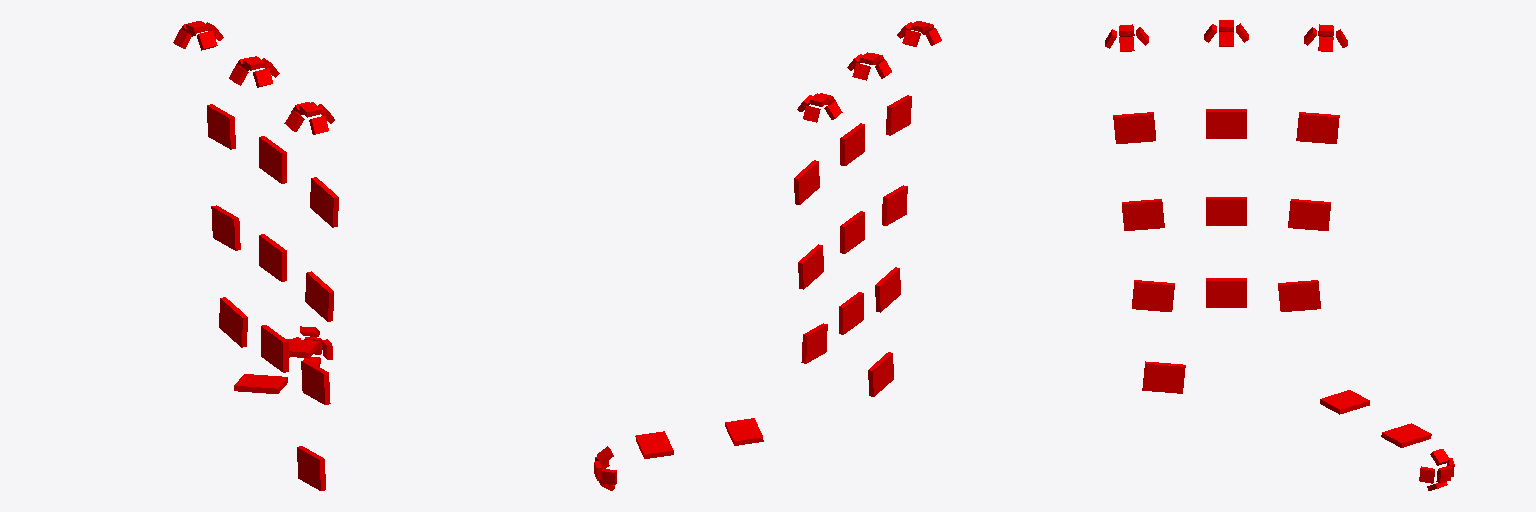
--- Facts derived from the render (not from the file) ---
Views: 3 orthographic renders of the robot side by side, from view 1: azimuth 30°, elevation 25°; view 2: azimuth 150°, elevation 25°; view 3: azimuth 270°, elevation 25°.
Model allegro_right with 55 links and 54 joints (16 revolute, 38 fixed), rooted at base_link, posed all joints at 0 but 1 set to mid-range because 0 is outside their limits (joint_12.0 = 0.8295).
Visible links, largest first — view 1: link_0.0_fsr, link_10.0_fsr, link_9.0_fsr, link_6.0_fsr, link_4.0_fsr, link_5.0_fsr, link_2.0_fsr, link_1.0_fsr, link_base_fsr, link_8.0_fsr, link_14.0_fsr; view 2: link_8.0_fsr, link_1.0_fsr, link_2.0_fsr, link_base_fsr, link_14.0_fsr, link_15.0_fsr, link_6.0_fsr, link_5.0_fsr, link_4.0_fsr, link_9.0_fsr, link_0.0_fsr, link_10.0_fsr; view 3: link_6.0_fsr, link_4.0_fsr, link_8.0_fsr, link_2.0_fsr, link_base_fsr, link_0.0_fsr, link_1.0_fsr, link_9.0_fsr, link_10.0_fsr, link_5.0_fsr, link_14.0_fsr, link_15.0_fsr.
Link boxes in pixels (x1,y1,x2,y2): link_0.0_fsr: [219, 297, 247, 347]; link_10.0_fsr: [310, 177, 338, 227]; link_9.0_fsr: [305, 271, 333, 321]; link_6.0_fsr: [259, 136, 286, 183]; link_4.0_fsr: [261, 325, 288, 372]; link_5.0_fsr: [259, 234, 286, 281]; link_2.0_fsr: [207, 104, 235, 149]; link_1.0_fsr: [211, 205, 240, 250]; link_base_fsr: [297, 446, 325, 490]; link_8.0_fsr: [301, 360, 330, 404]; link_14.0_fsr: [234, 374, 287, 393]; link_8.0_fsr: [875, 267, 900, 312]; link_1.0_fsr: [798, 244, 823, 289]; link_2.0_fsr: [794, 160, 819, 204]; link_base_fsr: [868, 352, 893, 396]; link_14.0_fsr: [725, 418, 763, 445]; link_15.0_fsr: [635, 431, 673, 458]; link_6.0_fsr: [840, 123, 864, 165]; link_5.0_fsr: [840, 211, 864, 253]; link_4.0_fsr: [839, 292, 863, 334]; link_9.0_fsr: [882, 185, 907, 225]; link_0.0_fsr: [801, 323, 827, 363]; link_10.0_fsr: [886, 95, 911, 135]; link_6.0_fsr: [1206, 109, 1246, 138]; link_4.0_fsr: [1206, 278, 1246, 307]; link_8.0_fsr: [1132, 280, 1174, 311]; link_2.0_fsr: [1296, 112, 1339, 143]; link_base_fsr: [1142, 361, 1185, 393]; link_0.0_fsr: [1278, 280, 1320, 311]; link_1.0_fsr: [1288, 199, 1330, 230]; link_9.0_fsr: [1122, 199, 1164, 230]; link_10.0_fsr: [1113, 112, 1155, 143]; link_5.0_fsr: [1206, 197, 1246, 225]; link_14.0_fsr: [1320, 390, 1369, 414]; link_15.0_fsr: [1381, 423, 1431, 447].
Size in the robot's own frame: 0.1221 by 0.1961 by 0.2425 metres.
0 mesh visuals loaded from 10 distinct referenced files (none loaded); not drawn: 21 (reference not matched to a file when rendering).

URDF robot description (allegro_right):
<?xml version="1.0" encoding="utf-8"?>
<robot name="allegro_right">
  <material name="tactile">
    <color rgba="1 0 0 1"/>
  </material>
  <material name="BLUE">
    <color rgba="0.0 0.0 1.0 1.0"/>
  </material>
  <link name="base_link">
    <inertial>
      <mass value="0.4154"/>
      <origin rpy="0 0 0" xyz="0 0 0"/>
      <inertia ixx="1e-4" ixy="0" ixz="0" iyy="1e-4" iyz="0" izz="1e-4"/>
    </inertial>
    <visual>
      <geometry>
        <mesh filename="meshes/visual/base_link.obj"/>
      </geometry>
      <origin rpy="0 0 0" xyz="0 0 0 "/>
    </visual>
    <collision>
      <origin rpy="0 0 0" xyz="-0.009 0.0 -0.023"/>
      <geometry>
        <box size="0.0414 0.112 0.0448"/>
      </geometry>
    </collision>
    <collision>
      <origin rpy="0 0 0" xyz="-0.009 -0.0253 -0.0667"/>
      <geometry>
        <box size="0.0414 0.0538 0.0428"/>
      </geometry>
    </collision>
    <collision>
      <origin rpy="0 0 0" xyz="-0.009300 -0.00557 -0.08874"/>
      <geometry>
        <box size="0.0414 0.0720 0.013"/>
      </geometry>
    </collision>
  </link> <!--  virtual link-->
  <link name="palm"/>
  <joint name="palm_joint" type="fixed">
    <parent link="base_link"/>
    <child link="palm"/>
    <origin rpy="0.00000 -0.00000 0.00000" xyz="0 0 -0.065"/>
  </joint> <!--  virtual link-->
  <link name="wrist"/>
  <joint name="wrist_joint" type="fixed">
    <origin rpy="0 0 0" xyz="0 0 -0.03"/>
    <parent link="palm"/>
    <child link="wrist"/>
  </joint>
  <link name="link_0.0">
    <visual>
      <geometry>
        <mesh filename="meshes/visual/link_0.0.obj"/>
      </geometry>
    </visual>
    <collision>
      <geometry>
        <box size="0.0196 0.0275 0.0164"/>
      </geometry>
      <origin rpy="0 0 0" xyz="0 0 0.0082"/>
    </collision>
    <inertial>
      <mass value="0.0119"/>
      <origin xyz="0 0 0" rpy="0 0 0"/>
      <inertia ixx="1.01666658333e-06" ixy="0.0" ixz="0.0" iyy="6.47677333333e-07" iyz="0.0" izz="1.01666658333e-06"/>
    </inertial>
  </link>
  <joint name="joint_0.0" type="revolute">
    <axis xyz="0 0 1"/>
    <limit effort="10" lower="-0.47" upper="0.47" velocity="3.14"/>
    <parent link="base_link"/>
    <child link="link_0.0"/>
    <origin rpy="-0.08726646255 0 0" xyz="0 0.0435 -0.001542"/>
  </joint>
  <link name="link_1.0">
    <inertial>
      <mass value="0.065"/>
      <origin xyz="0 0 0" rpy="0 0 0"/>
      <inertia ixx="7.95654166667e-05" ixy="1.7199e-05" ixz="8.75875e-06" iyy="2.47088833333e-05" iyz="2.413125e-05" izz="7.95654166667e-05"/>
    </inertial>
    <visual>
      <geometry>
        <mesh filename="meshes/visual/link_1.0.obj"/>
      </geometry>
    </visual>
    <collision>
      <geometry>
        <box size="0.0196 0.0275 0.054"/>
      </geometry>
      <origin rpy="0 0 0" xyz="0 0 0.027"/>
    </collision>
  </link>
  <joint name="joint_1.0" type="revolute">
    <limit effort="10" lower="-0.196" upper="1.61" velocity="3.14"/>
    <axis xyz="0 1 0"/>
    <parent link="link_0.0"/>
    <child link="link_1.0"/>
    <origin xyz="0 0 0.0164"/>
  </joint>
  <link name="link_1.0_fsr">
    <visual>
      <origin rpy="0 0 0" xyz="0.0108 0 0"/>
      <geometry>
        <box size="0.003 0.0228 0.0168"/>
      </geometry>
      <material name="tactile"/>
    </visual>
    <collision>
      <origin rpy="0 0 0" xyz="0.0108 0 0"/>
      <geometry>
        <box size="0.003 0.0228 0.0168"/>
      </geometry>
    </collision>
  </link>
  <joint name="joint_1.0_fsr" type="fixed">
    <parent link="link_1.0"/>
    <child link="link_1.0_fsr"/>
    <origin rpy="0 0 0" xyz="0 0 0.02"/>
  </joint>
  <link name="link_2.0">
    <inertial>
      <mass value="0.0355"/>
      <origin xyz="0 0 0" rpy="0 0 0"/>
      <inertia ixx="2.63979183333e-05" ixy="6.67968e-06" ixz="4.783625e-06" iyy="1.34948516667e-05" iyz="9.372e-06" izz="2.63979183333e-05"/>
    </inertial>
    <visual>
      <geometry>
        <mesh filename="meshes/visual/link_2.0.obj"/>
      </geometry>
    </visual>
    <collision>
      <geometry>
        <box size="0.0196 0.0275 0.0384"/>
      </geometry>
      <origin rpy="0 0 0" xyz="0 0 0.0192"/>
    </collision>
  </link>
  <joint name="joint_2.0" type="revolute">
    <axis xyz="0 1 0"/>
    <limit effort="10" lower="-0.174" upper="1.709" velocity="3.14"/>
    <parent link="link_1.0"/>
    <child link="link_2.0"/>
    <origin xyz="0 0 0.054"/>
  </joint>
  <link name="link_2.0_fsr">
    <visual>
      <origin rpy="0 0 0" xyz="0.0108 0 0"/>
      <geometry>
        <box size="0.003 0.0228 0.0168"/>
      </geometry>
      <material name="tactile"/>
    </visual>
    <collision>
      <origin rpy="0 0 0" xyz="0.0108 0 0"/>
      <geometry>
        <box size="0.003 0.0228 0.0168"/>
      </geometry>
    </collision>
  </link>
  <joint name="joint_2.0_fsr" type="fixed">
    <parent link="link_2.0"/>
    <child link="link_2.0_fsr"/>
    <origin rpy="0 0 0" xyz="0 0 0.02"/>
  </joint>
  <link name="link_3.0">
    <inertial>
      <mass value="0.0096"/>
      <origin xyz="0 0 0" rpy="0 0 0"/>
      <inertia ixx="4.701248e-06" ixy="1.255968e-06" ixz="1.2936e-06" iyy="3.649312e-06" iyz="1.7622e-06" izz="4.701248e-06"/>
    </inertial>
    <visual>
      <geometry>
        <mesh filename="meshes/visual/link_3.0.obj"/>
      </geometry>
    </visual>
    <collision>
      <geometry>
        <box size="0.0196 0.0269 0.022"/>
      </geometry>
      <origin rpy="0 0 0" xyz="0 0 0.0047"/>
    </collision>
    <inertial>
      <origin rpy="0 0 0" xyz="0 0 0.01335"/>
      <mass value="0.02"/>
      <inertia ixx="1e-5" ixy="0.0" ixz="0.0" iyy="2e-5" iyz="0.0" izz="2e-5"/>
    </inertial>
  </link>
  <joint name="joint_3.0" type="revolute">
    <axis xyz="0 1 0"/>
    <limit effort="10" lower="-0.227" upper="1.618" velocity="3.14"/>
    <parent link="link_2.0"/>
    <child link="link_3.0"/>
    <origin xyz="0 0 0.0384"/>
  </joint>
  <link name="link_3.0_tip">
    <inertial>
      <mass value="0.0168"/>
      <origin xyz="0 0 0" rpy="0 0 0"/>
      <inertia ixx="9.68e-07" ixy="0" ixz="0" iyy="9.68e-07" iyz="0" izz="9.68e-07"/>
    </inertial>
    <visual>
      <geometry>
        <mesh filename="meshes/visual/link_tip.obj"/>
      </geometry>
    </visual>
    <collision>
      <geometry>
        <mesh filename="meshes/collision/link_tip.obj"/>
      </geometry>
    </collision>
  </link>
  <joint name="joint_3.0_tip" type="fixed">
    <parent link="link_3.0"/>
    <child link="link_3.0_tip"/>
    <origin rpy="0 0 0" xyz="0 0 0.0267"/>
  </joint>
  <link name="link_3.0_tip_fsr_2">
    <visual>
      <!-- The previous layout with the surrounding sensors positioned further from the central one. -->
      <origin rpy="0 0 0" xyz="0.0108 0 0"/>

      <!-- Origin of tactile sensors with respect to the joint frame. This is for the latest version with the surrounding sensors closer to the central one. -->
      <!-- <origin rpy="0 0 0" xyz="0.0105 0 0"/> -->
      <geometry>
        <box size="0.003 0.008 0.008"/>
      </geometry>
      <material name="tactile"/>
    </visual>
    <collision>
      <origin rpy="0 0 0" xyz="0.0108 0 0"/>
      <!-- <origin rpy="0 0 0" xyz="0.0105 0 0"/> -->
      <geometry>
        <box size="0.003 0.008 0.008"/>
      </geometry>
    </collision>
  </link>
  <joint name="joint_3.0_tip_fsr_2" type="fixed">
    <parent link="link_3.0_tip"/>
    <child link="link_3.0_tip_fsr_2"/>
    <!-- <origin rpy="0 0 0" xyz="0.0001 0 0.000"/> -->
    <origin rpy="0 -0.6 0" xyz="0.0 0 0.000"/>
  </joint>
  <link name="link_3.0_tip_fsr_5">
    <visual>
      <origin rpy="0 0 0" xyz="-0.0108 0 0"/>
      <geometry>
        <box size="0.003 0.008 0.008"/>
      </geometry>
      <material name="tactile"/>
    </visual>
    <collision>
      <origin rpy="0 0 0" xyz="-0.0108 0 0"/>
      <geometry>
        <box size="0.003 0.008 0.008"/>
      </geometry>
    </collision>
  </link>
  <joint name="joint_3.0_tip_fsr_5" type="fixed">
    <parent link="link_3.0_tip"/>
    <child link="link_3.0_tip_fsr_5"/>
    <!-- <origin rpy="0 0 0" xyz="-0.0213 0 0"/> -->
    <origin rpy="0 0.6 0" xyz="0.0 0 0"/>
  </joint>
  <link name="link_3.0_tip_fsr_8">
    <visual>
      <!-- <origin rpy="0 0 0" xyz="0.0108 0 0"/> -->
      <origin rpy="0.0 0 0" xyz="0.0 0.0108 0"/>
      <geometry>
        <box size="0.008 0.003 0.008"/>
      </geometry>
      <material name="tactile"/>
    </visual>
    <collision>
      <origin rpy="0.0 0 0" xyz="0.0 0.0108 0"/>
      <geometry>
        <box size="0.008 0.003 0.008"/>
      </geometry>
    </collision>
  </link>
  <joint name="joint_3.0_tip_fsr_8" type="fixed">
    <parent link="link_3.0_tip"/>
    <child link="link_3.0_tip_fsr_8"/>
    <!-- previous joint pos -->
    <!-- <origin rpy="0 0 0" xyz="-0.011 0.0105 0"/> -->
    <!-- new joint pos is the center of the tip -->
    <origin rpy="0.6 0 0" xyz="0.0 0.0 0"/>
  </joint>
  <link name="link_3.0_tip_fsr_11">
    <visual>
      <!-- <origin rpy="0 0 0" xyz="0.0108 0 0"/> -->
      <origin rpy="0 0 0" xyz="0.0 -0.0108 0"/>
      <geometry>
        <box size="0.008 0.003 0.008"/>
      </geometry>
      <material name="tactile"/>
    </visual>
    <collision>
      <!-- <origin rpy="0 0 0" xyz="0.0108 0 0"/> -->
      <origin rpy="0 0 0" xyz="0.0 -0.0108 0"/>
      <geometry>
        <box size="0.008 0.003 0.008"/>
      </geometry>
    </collision>
  </link>
  <joint name="joint_3.0_tip_fsr_11" type="fixed">
    <parent link="link_3.0_tip"/>
    <child link="link_3.0_tip_fsr_11"/>
    <origin rpy="-0.6 0 0" xyz="0.0 0.0 0"/>
  </joint>
  <link name="link_3.0_tip_fsr_13">
    <visual>
      <origin rpy="0 0 0" xyz="0.0108 0 0"/>
      <geometry>
        <box size="0.008 0.008 0.003"/>
      </geometry>
      <material name="tactile"/>
    </visual>
    <collision>
      <origin rpy="0 0 0" xyz="0.0108 0 0"/>
      <geometry>
        <box size="0.008 0.008 0.003"/>
      </geometry>
    </collision>
  </link>
  <joint name="joint_3.0_tip_fsr_13" type="fixed">
    <parent link="link_3.0_tip"/>
    <child link="link_3.0_tip_fsr_13"/>
    <origin rpy="0 0 0" xyz="-0.011 0 0.0105"/>
  </joint>
  <link name="link_4.0">
    <inertial>
      <mass value="0.005"/>
      <origin xyz="0 0 0"/>
      <inertia ixx="5.1458e-05" iyy="5.1458e-05" izz="6.125e-05" ixy="0" ixz="0" iyz="0"/>
    </inertial>
    <visual>
      <geometry>
        <mesh filename="meshes/visual/link_0.0.obj"/>
      </geometry>
    </visual>
    <collision>
      <geometry>
        <box size="0.0196 0.0275 0.0164"/>
      </geometry>
      <origin rpy="0 0 0" xyz="0 0 0.0082"/>
    </collision>
  </link>
  <joint name="joint_4.0" type="revolute">
    <axis xyz="0 0 1"/>
    <limit effort="10" lower="-0.47" upper="0.47" velocity="3.14"/>
    <parent link="base_link"/>
    <child link="link_4.0"/>
    <origin rpy="0.0 0 0" xyz="0 0 0.0007"/>
  </joint>
  <link name="link_5.0">
    <inertial>
      <mass value="0.065"/>
      <origin xyz="0 0 0" rpy="0 0 0"/>
      <inertia ixx="7.95654166667e-05" ixy="1.7199e-05" ixz="8.75875e-06" iyy="2.47088833333e-05" iyz="2.413125e-05" izz="7.95654166667e-05"/>
    </inertial>
    <visual>
      <geometry>
        <mesh filename="meshes/visual/link_1.0.obj"/>
      </geometry>
    </visual>
    <collision>
      <geometry>
        <box size="0.0196 0.0275 0.054"/>
      </geometry>
      <origin rpy="0 0 0" xyz="0 0 0.027"/>
    </collision>
  </link>
  <joint name="joint_5.0" type="revolute">
    <limit effort="10" lower="-0.196" upper="1.61" velocity="3.14"/>
    <axis xyz="0 1 0"/>
    <parent link="link_4.0"/>
    <child link="link_5.0"/>
    <origin xyz="0 0 0.0164"/>
  </joint>
  <link name="link_5.0_fsr">
    <visual>
      <origin rpy="0 0 0" xyz="0.0108 0 0"/>
      <geometry>
        <box size="0.003 0.0228 0.0168"/>
      </geometry>
      <material name="tactile"/>
    </visual>
    <collision>
      <origin rpy="0 0 0" xyz="0.0108 0 0"/>
      <geometry>
        <box size="0.003 0.0228 0.0168"/>
      </geometry>
    </collision>
  </link>
  <joint name="joint_5.0_fsr" type="fixed">
    <parent link="link_5.0"/>
    <child link="link_5.0_fsr"/>
    <origin rpy="0 0 0" xyz="0 0 0.02"/>
  </joint>
  <link name="link_6.0">
    <inertial>
      <mass value="0.0355"/>
      <origin xyz="0 0 0" rpy="0 0 0"/>
      <inertia ixx="2.63979183333e-05" ixy="6.67968e-06" ixz="4.783625e-06" iyy="1.34948516667e-05" iyz="9.372e-06" izz="2.63979183333e-05"/>
    </inertial>
    <visual>
      <geometry>
        <mesh filename="meshes/visual/link_2.0.obj"/>
      </geometry>
    </visual>
    <collision>
      <geometry>
        <box size="0.0196 0.0275 0.0384"/>
      </geometry>
      <origin rpy="0 0 0" xyz="0 0 0.0192"/>
    </collision>
  </link>
  <joint name="joint_6.0" type="revolute">
    <axis xyz="0 1 0"/>
    <limit effort="10" lower="-0.174" upper="1.709" velocity="3.14"/>
    <parent link="link_5.0"/>
    <child link="link_6.0"/>
    <origin xyz="0 0 0.054"/>
  </joint>
  <link name="link_6.0_fsr">
    <visual>
      <origin rpy="0 0 0" xyz="0.0108 0 0"/>
      <geometry>
        <box size="0.003 0.0228 0.0168"/>
      </geometry>
      <material name="tactile"/>
    </visual>
    <collision>
      <origin rpy="0 0 0" xyz="0.0108 0 0"/>
      <geometry>
        <box size="0.003 0.0228 0.0168"/>
      </geometry>
    </collision>
  </link>
  <joint name="joint_6.0_fsr" type="fixed">
    <parent link="link_6.0"/>
    <child link="link_6.0_fsr"/>
    <origin rpy="0 0 0" xyz="0 0 0.02"/>
  </joint>
  <link name="link_7.0">
    <inertial>
      <mass value="0.0388"/>
      <origin xyz="0 0 0" rpy="0 0 0"/>
      <inertia ixx="3.29223173333e-05" ixy="8.042076e-06" ixz="5.2283e-06" iyy="1.47493026667e-5" iyz="1.1283525e-5" izz="3.29223173333e-05"/>
    </inertial>
    <visual>
      <geometry>
        <mesh filename="meshes/visual/link_3.0.obj"/>
      </geometry>
    </visual>
    <collision>
      <geometry>
        <box size="0.0196 0.0269 0.022"/>
      </geometry>
      <origin rpy="0 0 0" xyz="0 0 0.0047"/>
    </collision>
  </link>
  <joint name="joint_7.0" type="revolute">
    <axis xyz="0 1 0"/>
    <limit effort="10" lower="-0.227" upper="1.618" velocity="3.14"/>
    <parent link="link_6.0"/>
    <child link="link_7.0"/>
    <origin xyz="0 0 0.0384"/>
  </joint>
  <link name="link_7.0_tip">
    <inertial>
      <mass value="0.0096"/>
      <origin xyz="0 0 0" rpy="0 0 0"/>
      <inertia ixx="4.701248e-06" ixy="1.255968e-06" ixz="1.2936e-06" iyy="3.649312e-06" iyz="1.7622e-06" izz="4.701248e-06"/>
    </inertial>
    <visual>
      <geometry>
        <mesh filename="meshes/visual/link_tip.obj"/>
      </geometry>
    </visual>
    <collision>
      <geometry>
        <mesh filename="meshes/collision/link_tip.obj"/>
      </geometry>
    </collision>
  </link>
  <joint name="joint_7.0_tip" type="fixed">
    <parent link="link_7.0"/>
    <child link="link_7.0_tip"/>
    <origin rpy="0 0 0" xyz="0 0 0.0267"/>
  </joint>
  <!-- <link name="link_7.0_tip_fsr_2">
    <visual>
      <origin rpy="0 0 0" xyz="0.0108 0 0"/>
      <geometry>
        <box size="0.003 0.008 0.008"/>
      </geometry>
      <material name="tactile"/>
    </visual>
    <collision>
      <origin rpy="0 0 0" xyz="0.0108 0 0"/>
      <geometry>
        <box size="0.003 0.008 0.008"/>
      </geometry>
    </collision>
  </link>
  <joint name="joint_7.0_tip_fsr_2" type="fixed">
    <parent link="link_7.0_tip"/>
    <child link="link_7.0_tip_fsr_2"/>
    <origin rpy="0 0 0" xyz="-0.0003 0 0.000"/>
  </joint>
  <link name="link_7.0_tip_fsr_5">
    <visual>
      <origin rpy="0 0 0" xyz="0.0108 0 0"/>
      <geometry>
        <box size="0.003 0.008 0.008"/>
      </geometry>
      <material name="tactile"/>
    </visual>
    <collision>
      <origin rpy="0 0 0" xyz="0.0108 0 0"/>
      <geometry>
        <box size="0.003 0.008 0.008"/>
      </geometry>
    </collision>
  </link>
  <joint name="joint_7.0_tip_fsr_5" type="fixed">
    <parent link="link_7.0_tip"/>
    <child link="link_7.0_tip_fsr_5"/>
    <origin rpy="0 0 0" xyz="-0.0213 0 0"/>
  </joint>
  <link name="link_7.0_tip_fsr_8">
    <visual>
      <origin rpy="0 0 0" xyz="0.0108 0 0"/>
      <geometry>
        <box size="0.008 0.003 0.008"/>
      </geometry>
      <material name="tactile"/>
    </visual>
    <collision>
      <origin rpy="0 0 0" xyz="0.0108 0 0"/>
      <geometry>
        <box size="0.008 0.003 0.008"/>
      </geometry>
    </collision>
  </link>
  <joint name="joint_7.0_tip_fsr_8" type="fixed">
    <parent link="link_7.0_tip"/>
    <child link="link_7.0_tip_fsr_8"/>
    <origin rpy="0 0 0" xyz="-0.011 0.0105 0"/>
  </joint>
  <link name="link_7.0_tip_fsr_11">
    <visual>
      <origin rpy="0 0 0" xyz="0.0108 0 0"/>
      <geometry>
        <box size="0.008 0.003 0.008"/>
      </geometry>
      <material name="tactile"/>
    </visual>
    <collision>
      <origin rpy="0 0 0" xyz="0.0108 0 0"/>
      <geometry>
        <box size="0.008 0.003 0.008"/>
      </geometry>
    </collision>
  </link>
  <joint name="joint_7.0_tip_fsr_11" type="fixed">
    <parent link="link_7.0_tip"/>
    <child link="link_7.0_tip_fsr_11"/>
    <origin rpy="0 0 0" xyz="-0.011 -0.0105 0"/>
  </joint> -->
  <link name="link_7.0_tip_fsr_2">
    <visual>
      <!-- The previous layout with the surrounding sensors positioned further from the central one. -->
      <origin rpy="0 0 0" xyz="0.0108 0 0"/>

      <!-- Origin of tactile sensors with respect to the joint frame. This is for the latest version with the surrounding sensors closer to the central one. -->
      <!-- <origin rpy="0 0 0" xyz="0.0105 0 0"/> -->
      <geometry>
        <box size="0.003 0.008 0.008"/>
      </geometry>
      <material name="tactile"/>
    </visual>
    <collision>
      <origin rpy="0 0 0" xyz="0.0108 0 0"/>
      <!-- <origin rpy="0 0 0" xyz="0.0105 0 0"/> -->
      <geometry>
        <box size="0.003 0.008 0.008"/>
      </geometry>
    </collision>
  </link>
  <joint name="joint_7.0_tip_fsr_2" type="fixed">
    <parent link="link_7.0_tip"/>
    <child link="link_7.0_tip_fsr_2"/>
    <!-- <origin rpy="0 0 0" xyz="0.0001 0 0.000"/> -->
    <origin rpy="0 -0.6 0" xyz="0.0 0 0.000"/>
  </joint>
  <link name="link_7.0_tip_fsr_5">
    <visual>
      <origin rpy="0 0 0" xyz="-0.0108 0 0"/>
      <geometry>
        <box size="0.003 0.008 0.008"/>
      </geometry>
      <material name="tactile"/>
    </visual>
    <collision>
      <origin rpy="0 0 0" xyz="-0.0108 0 0"/>
      <geometry>
        <box size="0.003 0.008 0.008"/>
      </geometry>
    </collision>
  </link>
  <joint name="joint_7.0_tip_fsr_5" type="fixed">
    <parent link="link_7.0_tip"/>
    <child link="link_7.0_tip_fsr_5"/>
    <!-- <origin rpy="0 0 0" xyz="-0.0213 0 0"/> -->
    <origin rpy="0 0.6 0" xyz="0.0 0 0"/>
  </joint>
  <link name="link_7.0_tip_fsr_8">
    <visual>
      <!-- <origin rpy="0 0 0" xyz="0.0108 0 0"/> -->
      <origin rpy="0.0 0 0" xyz="0.0 0.0108 0"/>
      <geometry>
        <box size="0.008 0.003 0.008"/>
      </geometry>
      <material name="tactile"/>
    </visual>
    <collision>
      <origin rpy="0.0 0 0" xyz="0.0 0.0108 0"/>
      <geometry>
        <box size="0.008 0.003 0.008"/>
      </geometry>
    </collision>
  </link>
  <joint name="joint_7.0_tip_fsr_8" type="fixed">
    <parent link="link_7.0_tip"/>
    <child link="link_7.0_tip_fsr_8"/>
    <!-- previous joint pos -->
    <!-- <origin rpy="0 0 0" xyz="-0.011 0.0105 0"/> -->
    <!-- new joint pos is the center of the tip -->
    <origin rpy="0.6 0 0" xyz="0.0 0.0 0"/>
  </joint>
  <link name="link_7.0_tip_fsr_11">
    <visual>
      <!-- <origin rpy="0 0 0" xyz="0.0108 0 0"/> -->
      <origin rpy="0 0 0" xyz="0.0 -0.0108 0"/>
      <geometry>
        <box size="0.008 0.003 0.008"/>
      </geometry>
      <material name="tactile"/>
    </visual>
    <collision>
      <!-- <origin rpy="0 0 0" xyz="0.0108 0 0"/> -->
      <origin rpy="0 0 0" xyz="0.0 -0.0108 0"/>
      <geometry>
        <box size="0.008 0.003 0.008"/>
      </geometry>
    </collision>
  </link>
  <joint name="joint_7.0_tip_fsr_11" type="fixed">
    <parent link="link_7.0_tip"/>
    <child link="link_7.0_tip_fsr_11"/>
    <origin rpy="-0.6 0 0" xyz="0.0 0.0 0"/>
  </joint>
  <link name="link_7.0_tip_fsr_13">
    <visual>
      <origin rpy="0 0 0" xyz="0.0108 0 0"/>
      <geometry>
        <box size="0.008 0.008 0.003"/>
      </geometry>
      <material name="tactile"/>
    </visual>
    <collision>
      <origin rpy="0 0 0" xyz="0.0108 0 0"/>
      <geometry>
        <box size="0.008 0.008 0.003"/>
      </geometry>
    </collision>
  </link>
  <joint name="joint_7.0_tip_fsr_13" type="fixed">
    <parent link="link_7.0_tip"/>
    <child link="link_7.0_tip_fsr_13"/>
    <origin rpy="0 0 0" xyz="-0.011 0 0.0105"/>
  </joint>
  <link name="link_8.0">
    <inertial>
      <mass value="0.005"/>
      <origin xyz="0 0 0"/>
      <inertia ixx="5.1458e-05" iyy="5.1458e-05" izz="6.125e-05" ixy="0" ixz="0" iyz="0"/>
    </inertial>
    <visual>
      <geometry>
        <mesh filename="meshes/visual/link_0.0.obj"/>
      </geometry>
    </visual>
    <collision>
      <geometry>
        <box size="0.0196 0.0275 0.0164"/>
      </geometry>
      <origin rpy="0 0 0" xyz="0 0 0.0082"/>
    </collision>
  </link>
  <joint name="joint_8.0" type="revolute">
    <axis xyz="0 0 1"/>
    <limit effort="10" lower="-0.47" upper="0.47" velocity="3.14"/>
    <parent link="base_link"/>
    <child link="link_8.0"/>
    <origin rpy="0.08726646255 0 0" xyz="0 -0.0435 -0.001542"/>
  </joint>
  <link name="link_9.0">
    <inertial>
      <mass value="0.065"/>
      <origin xyz="0 0 0" rpy="0 0 0"/>
      <inertia ixx="7.95654166667e-05" ixy="1.7199e-05" ixz="8.75875e-06" iyy="2.47088833333e-05" iyz="2.413125e-05" izz="7.95654166667e-05"/>
    </inertial>
    <visual>
      <geometry>
        <mesh filename="meshes/visual/link_1.0.obj"/>
      </geometry>
    </visual>
    <collision>
      <geometry>
        <box size="0.0196 0.0275 0.054"/>
      </geometry>
      <origin rpy="0 0 0" xyz="0 0 0.027"/>
    </collision>
  </link>
  <joint name="joint_9.0" type="revolute">
    <limit effort="10" lower="-0.196" upper="1.61" velocity="3.14"/>
    <axis xyz="0 1 0"/>
    <parent link="link_8.0"/>
    <child link="link_9.0"/>
    <origin xyz="0 0 0.0164"/>
  </joint>
  <link name="link_9.0_fsr">
    <visual>
      <origin rpy="0 0 0" xyz="0.0108 0 0"/>
      <geometry>
        <box size="0.003 0.0228 0.0168"/>
      </geometry>
      <material name="tactile"/>
    </visual>
    <collision>
      <origin rpy="0 0 0" xyz="0.0108 0 0"/>
      <geometry>
        <box size="0.003 0.0228 0.0168"/>
      </geometry>
    </collision>
  </link>
  <joint name="joint_9.0_fsr" type="fixed">
    <parent link="link_9.0"/>
    <child link="link_9.0_fsr"/>
    <origin rpy="0 0 0" xyz="0 0 0.02"/>
  </joint>
  <link name="link_10.0">
    <inertial>
      <mass value="0.0355"/>
      <origin xyz="0 0 0" rpy="0 0 0"/>
      <inertia ixx="2.63979183333e-05" ixy="6.67968e-06" ixz="4.783625e-06" iyy="1.34948516667e-05" iyz="9.372e-06" izz="2.63979183333e-05"/>
    </inertial>
    <visual>
      <geometry>
        <mesh filename="meshes/visual/link_2.0.obj"/>
      </geometry>
    </visual>
    <collision>
      <geometry>
        <box size="0.0196 0.0275 0.0384"/>
      </geometry>
      <origin rpy="0 0 0" xyz="0 0 0.0192"/>
    </collision>
  </link>
  <joint name="joint_10.0" type="revolute">
    <axis xyz="0 1 0"/>
    <limit effort="10" lower="-0.174" upper="1.709" velocity="3.14"/>
    <parent link="link_9.0"/>
    <child link="link_10.0"/>
    <origin xyz="0 0 0.054"/>
  </joint>
  <link name="link_10.0_fsr">
    <visual>
      <origin rpy="0 0 0" xyz="0.0108 0 0"/>
      <geometry>
        <box size="0.003 0.0228 0.0168"/>
      </geometry>
      <material name="tactile"/>
    </visual>
    <collision>
      <origin rpy="0 0 0" xyz="0.0108 0 0"/>
      <geometry>
        <box size="0.003 0.0228 0.0168"/>
      </geometry>
    </collision>
  </link>
  <joint name="joint_10.0_fsr" type="fixed">
    <parent link="link_10.0"/>
    <child link="link_10.0_fsr"/>
    <origin rpy="0 0 0" xyz="0 0 0.02"/>
  </joint>
  <link name="link_11.0">
    <inertial>
      <mass value="0.0096"/>
      <origin xyz="0 0 0" rpy="0 0 0"/>
      <inertia ixx="4.701248e-06" ixy="1.255968e-06" ixz="1.2936e-06" iyy="3.649312e-06" iyz="1.7622e-06" izz="4.701248e-06"/>
    </inertial>
    <visual>
      <geometry>
        <mesh filename="meshes/visual/link_3.0.obj"/>
      </geometry>
    </visual>
    <collision>
      <geometry>
        <box size="0.0196 0.0269 0.022"/>
      </geometry>
      <origin rpy="0 0 0" xyz="0 0 0.0047"/>
    </collision>
  </link>
  <joint name="joint_11.0" type="revolute">
    <axis xyz="0 1 0"/>
    <limit effort="10" lower="-0.227" upper="1.618" velocity="3.14"/>
    <parent link="link_10.0"/>
    <child link="link_11.0"/>
    <origin xyz="0 0 0.0384"/>
  </joint>
  <link name="link_11.0_tip">
    <inertial>
      <mass value="0.0168"/>
      <origin xyz="0 0 0" rpy="0 0 0"/>
      <inertia ixx="9.68e-07" ixy="0" ixz="0" iyy="9.68e-07" iyz="0" izz="9.68e-07"/>
    </inertial>
    <visual>
      <geometry>
        <mesh filename="meshes/visual/link_tip.obj"/>
      </geometry>
    </visual>
    <collision>
      <geometry>
        <mesh filename="meshes/collision/link_tip.obj"/>
      </geometry>
    </collision>
  </link>
  <joint name="joint_11.0_tip" type="fixed">
    <parent link="link_11.0"/>
    <child link="link_11.0_tip"/>
    <origin rpy="0 0 0" xyz="0 0 0.0267"/>
  </joint> <!-- THUMB -->
  <!-- <link name="link_11.0_tip_fsr_2">
    <visual>
      <origin rpy="0 0 0" xyz="0.0108 0 0"/>
      <geometry>
        <box size="0.003 0.008 0.008"/>
      </geometry>
      <material name="tactile"/>
    </visual>
    <collision>
      <origin rpy="0 0 0" xyz="0.0108 0 0"/>
      <geometry>
        <box size="0.003 0.008 0.008"/>
      </geometry>
    </collision>
  </link>
  <joint name="joint_11.0_tip_fsr_2" type="fixed">
    <parent link="link_11.0_tip"/>
    <child link="link_11.0_tip_fsr_2"/>
    <origin rpy="0 0 0" xyz="-0.0003 0 0.000"/>
  </joint>
  <link name="link_11.0_tip_fsr_5">
    <visual>
      <origin rpy="0 0 0" xyz="0.0108 0 0"/>
      <geometry>
        <box size="0.003 0.008 0.008"/>
      </geometry>
      <material name="tactile"/>
    </visual>
    <collision>
      <origin rpy="0 0 0" xyz="0.0108 0 0"/>
      <geometry>
        <box size="0.003 0.008 0.008"/>
      </geometry>
    </collision>
  </link>
  <joint name="joint_11.0_tip_fsr_5" type="fixed">
    <parent link="link_11.0_tip"/>
    <child link="link_11.0_tip_fsr_5"/>
    <origin rpy="0 0 0" xyz="-0.0213 0 0"/>
  </joint>
  <link name="link_11.0_tip_fsr_8">
    <visual>
      <origin rpy="0 0 0" xyz="0.0108 0 0"/>
      <geometry>
        <box size="0.008 0.003 0.008"/>
      </geometry>
      <material name="tactile"/>
    </visual>
    <collision>
      <origin rpy="0 0 0" xyz="0.0108 0 0"/>
      <geometry>
        <box size="0.008 0.003 0.008"/>
      </geometry>
    </collision>
  </link>
  <joint name="joint_11.0_tip_fsr_8" type="fixed">
    <parent link="link_11.0_tip"/>
    <child link="link_11.0_tip_fsr_8"/>
    <origin rpy="0 0 0" xyz="-0.011 0.0105 0"/>
  </joint>
  <link name="link_11.0_tip_fsr_11">
    <visual>
      <origin rpy="0 0 0" xyz="0.0108 0 0"/>
      <geometry>
        <box size="0.008 0.003 0.008"/>
      </geometry>
      <material name="tactile"/>
    </visual>
    <collision>
      <origin rpy="0 0 0" xyz="0.0108 0 0"/>
      <geometry>
        <box size="0.008 0.003 0.008"/>
      </geometry>
    </collision>
  </link>
  <joint name="joint_11.0_tip_fsr_11" type="fixed">
    <parent link="link_11.0_tip"/>
    <child link="link_11.0_tip_fsr_11"/>
    <origin rpy="0 0 0" xyz="-0.011 -0.0105 0"/>
  </joint> -->
  <link name="link_11.0_tip_fsr_2">
    <visual>
      <!-- The previous layout with the surrounding sensors positioned further from the central one. -->
      <origin rpy="0 0 0" xyz="0.0108 0 0"/>

      <!-- Origin of tactile sensors with respect to the joint frame. This is for the latest version with the surrounding sensors closer to the central one. -->
      <!-- <origin rpy="0 0 0" xyz="0.0105 0 0"/> -->
      <geometry>
        <box size="0.003 0.008 0.008"/>
      </geometry>
      <material name="tactile"/>
    </visual>
    <collision>
      <origin rpy="0 0 0" xyz="0.0108 0 0"/>
      <!-- <origin rpy="0 0 0" xyz="0.0105 0 0"/> -->
      <geometry>
        <box size="0.003 0.008 0.008"/>
      </geometry>
    </collision>
  </link>
  <joint name="joint_11.0_tip_fsr_2" type="fixed">
    <parent link="link_11.0_tip"/>
    <child link="link_11.0_tip_fsr_2"/>
    <!-- <origin rpy="0 0 0" xyz="0.0001 0 0.000"/> -->
    <origin rpy="0 -0.6 0" xyz="0.0 0 0.000"/>
  </joint>
  <link name="link_11.0_tip_fsr_5">
    <visual>
      <origin rpy="0 0 0" xyz="-0.0108 0 0"/>
      <geometry>
        <box size="0.003 0.008 0.008"/>
      </geometry>
      <material name="tactile"/>
    </visual>
    <collision>
      <origin rpy="0 0 0" xyz="-0.0108 0 0"/>
      <geometry>
        <box size="0.003 0.008 0.008"/>
      </geometry>
    </collision>
  </link>
  <joint name="joint_11.0_tip_fsr_5" type="fixed">
    <parent link="link_11.0_tip"/>
    <child link="link_11.0_tip_fsr_5"/>
    <!-- <origin rpy="0 0 0" xyz="-0.0213 0 0"/> -->
    <origin rpy="0 0.6 0" xyz="0.0 0 0"/>
  </joint>
  <link name="link_11.0_tip_fsr_8">
    <visual>
      <!-- <origin rpy="0 0 0" xyz="0.0108 0 0"/> -->
      <origin rpy="0.0 0 0" xyz="0.0 0.0108 0"/>
      <geometry>
        <box size="0.008 0.003 0.008"/>
      </geometry>
      <material name="tactile"/>
    </visual>
    <collision>
      <origin rpy="0.0 0 0" xyz="0.0 0.0108 0"/>
      <geometry>
        <box size="0.008 0.003 0.008"/>
      </geometry>
    </collision>
  </link>
  <joint name="joint_11.0_tip_fsr_8" type="fixed">
    <parent link="link_11.0_tip"/>
    <child link="link_11.0_tip_fsr_8"/>
    <!-- previous joint pos -->
    <!-- <origin rpy="0 0 0" xyz="-0.011 0.0105 0"/> -->
    <!-- new joint pos is the center of the tip -->
    <origin rpy="0.6 0 0" xyz="0.0 0.0 0"/>
  </joint>
  <link name="link_11.0_tip_fsr_11">
    <visual>
      <!-- <origin rpy="0 0 0" xyz="0.0108 0 0"/> -->
      <origin rpy="0 0 0" xyz="0.0 -0.0108 0"/>
      <geometry>
        <box size="0.008 0.003 0.008"/>
      </geometry>
      <material name="tactile"/>
    </visual>
    <collision>
      <!-- <origin rpy="0 0 0" xyz="0.0108 0 0"/> -->
      <origin rpy="0 0 0" xyz="0.0 -0.0108 0"/>
      <geometry>
        <box size="0.008 0.003 0.008"/>
      </geometry>
    </collision>
  </link>
  <joint name="joint_11.0_tip_fsr_11" type="fixed">
    <parent link="link_11.0_tip"/>
    <child link="link_11.0_tip_fsr_11"/>
    <origin rpy="-0.6 0 0" xyz="0.0 0.0 0"/>
  </joint>
  <link name="link_11.0_tip_fsr_13">
    <visual>
      <origin rpy="0 0 0" xyz="0.0108 0 0"/>
      <geometry>
        <box size="0.008 0.008 0.003"/>
      </geometry>
      <material name="tactile"/>
    </visual>
    <collision>
      <origin rpy="0 0 0" xyz="0.0108 0 0"/>
      <geometry>
        <box size="0.008 0.008 0.003"/>
      </geometry>
    </collision>
  </link>
  <joint name="joint_11.0_tip_fsr_13" type="fixed">
    <parent link="link_11.0_tip"/>
    <child link="link_11.0_tip_fsr_13"/>
    <origin rpy="0 0 0" xyz="-0.011 0 0.0105"/>
  </joint>
  <link name="link_12.0">
    <inertial>
      <mass value="0.0176"/>
      <origin xyz="0 0 0" rpy="0 0 0"/>
      <inertia ixx="1.89273333333e-5" ixy="7.16716e-06" ixz="5.35568e-06" iyy="1.43008213333e-05" iyz="6.8068e-06" izz="1.89273333333e-05"/>
    </inertial>
    <visual>
      <geometry>
        <mesh filename="meshes/visual/link_12.0_right.obj"/>
      </geometry>
    </visual>
    <collision>
      <geometry>
        <box size="0.0358 0.034 0.0455"/>
      </geometry>
      <origin rpy="0 0 0" xyz="-0.0179 0.009 0.0145"/>
    </collision>
  </link>
  <joint name="joint_12.0" type="revolute">
    <axis xyz="-1 0 0"/>
    <limit effort="10" lower="0.263" upper="1.396" velocity="3.14"/>
    <parent link="base_link"/>
    <child link="link_12.0"/>
    <origin rpy="0 -1.65806278845 -1.5707963259" xyz="-0.0182 0.019333 -0.045987"/>
  </joint>
  <link name="link_13.0">
    <inertial>
      <mass value="0.0119"/>
      <origin xyz="0 0 0" rpy="0 0 0"/>
      <inertia ixx="4.24250866667e-06" ixy="1.032087e-06" ixz="1.603525e-06" iyy="4.52362633333e-06" iyz="1.44808125e-06" izz="4.24250866667e-06"/>
    </inertial>
    <visual>
      <geometry>
        <mesh filename="meshes/visual/link_13.0.obj"/>
      </geometry>
    </visual>
    <collision>
      <geometry>
        <box size="0.0196 0.0275 0.0177"/>
      </geometry>
      <origin rpy="0 0 0" xyz="0 0 0.00885"/>
    </collision>
  </link>
  <joint name="joint_13.0" type="revolute">
    <axis xyz="0 0 1"/>
    <limit effort="10" lower="-0.105" upper="1.163" velocity="3.14"/>
    <parent link="link_12.0"/>
    <child link="link_13.0"/>
    <origin xyz="-0.027 0.005 0.0399"/>
  </joint>
  <link name="link_14.0">
    <inertial>
      <mass value="0.038"/>
      <origin xyz="0 0 0" rpy="0 0 0"/>
      <inertia ixx="4.30439933333e-05" ixy="9.57068e-06" ixz="5.1205e-06" iyy="1.44451933333e-05" iyz="1.342825e-05" izz="4.30439933333e-05"/>
    </inertial>
    <visual>
      <geometry>
        <mesh filename="meshes/visual/link_14.0.obj"/>
      </geometry>
    </visual>
    <collision>
      <geometry>
        <box size="0.0196 0.0275 0.0514"/>
      </geometry>
      <origin rpy="0 0 0" xyz="0 0 0.0257"/>
    </collision>
  </link>
  <joint name="joint_14.0" type="revolute">
    <axis xyz="0 1 0"/>
    <limit effort="10" lower="-0.189" upper="1.644" velocity="3.14"/>
    <parent link="link_13.0"/>
    <child link="link_14.0"/>
    <origin xyz="0 0 0.0177"/>
  </joint>
  <link name="link_14.0_fsr">
    <visual>
      <origin rpy="0 0 0" xyz="0.0108 0 0"/>
      <geometry>
        <box size="0.003 0.0228 0.0168"/>
      </geometry>
      <material name="tactile"/>
    </visual>
    <collision>
      <origin rpy="0 0 0" xyz="0.0108 0 0"/>
      <geometry>
        <box size="0.003 0.0228 0.0168"/>
      </geometry>
    </collision>
  </link>
  <joint name="joint_14.0_fsr" type="fixed">
    <parent link="link_14.0"/>
    <child link="link_14.0_fsr"/>
    <origin rpy="0 0 0" xyz="0 0 0.02"/>
  </joint>
  <link name="link_15.0">
    <inertial>
      <mass value="0.0388"/>
      <origin xyz="0 0 0" rpy="0 0 0"/>
      <inertia ixx="3.29223173333e-05" ixy="8.042076e-06" ixz="5.2283e-06" iyy="1.47493026667e-5" iyz="1.1283525e-5" izz="3.29223173333e-05"/>
    </inertial>
    <visual>
      <geometry>
        <mesh filename="meshes/visual/link_15.0.obj"/>
      </geometry>
    </visual>
    <collision>
      <geometry>
        <box size="0.0196 0.0269 0.04"/>
      </geometry>
      <origin rpy="0 0 0" xyz="0 0 0.01125"/>
    </collision>
  </link>
  <joint name="joint_15.0" type="revolute">
    <axis xyz="0 1 0"/>
    <limit effort="10" lower="-0.162" upper="1.719" velocity="3.14"/>
    <parent link="link_14.0"/>
    <child link="link_15.0"/>
    <origin xyz="0 0 0.0514"/>
  </joint>
  <link name="link_15.0_fsr">
    <visual>
      <origin rpy="0 0 0" xyz="0.0108 0 0"/>
      <geometry>
        <box size="0.003 0.0228 0.0168"/>
      </geometry>
      <material name="tactile"/>
    </visual>
    <collision>
      <origin rpy="0 0 0" xyz="0.0108 0 0"/>
      <geometry>
        <box size="0.003 0.0228 0.0168"/>
      </geometry>
    </collision>
  </link>
  <joint name="joint_15.0_fsr" type="fixed">
    <parent link="link_15.0"/>
    <child link="link_15.0_fsr"/>
    <origin rpy="0 0 0" xyz="0 0 0.02"/>
  </joint>
  <link name="link_15.0_tip">
    <inertial>
      <mass value="0.0168"/>
      <origin xyz="0 0 0" rpy="0 0 0"/>
      <inertia ixx="9.68e-07" ixy="0" ixz="0" iyy="9.68e-07" iyz="0" izz="9.68e-07"/>
    </inertial>
    <visual>
      <geometry>
        <mesh filename="meshes/visual/link_tip.obj"/>
      </geometry>
    </visual>
    <collision>
      <geometry>
        <mesh filename="meshes/collision/link_tip.obj"/>
      </geometry>
    </collision>
  </link>
  <joint name="joint_15.0_tip" type="fixed">
    <parent link="link_15.0"/>
    <child link="link_15.0_tip"/>
    <origin rpy="0 0 0" xyz="0 0 0.0423"/>
  </joint>
  <!-- <link name="link_15.0_tip_fsr_2">
    <visual>
      <origin rpy="0 0 0" xyz="0.0108 0 0"/>
      <geometry>
        <box size="0.003 0.008 0.008"/>
      </geometry>
      <material name="tactile"/>
    </visual>
    <collision>
      <origin rpy="0 0 0" xyz="0.0108 0 0"/>
      <geometry>
        <box size="0.003 0.008 0.008"/>
      </geometry>
    </collision>
  </link>
  <joint name="joint_15.0_tip_fsr_2" type="fixed">
    <parent link="link_15.0_tip"/>
    <child link="link_15.0_tip_fsr_2"/>
    <origin rpy="0 0 0" xyz="-0.0003 0 0.000"/>
  </joint>
  <link name="link_15.0_tip_fsr_5">
    <visual>
      <origin rpy="0 0 0" xyz="0.0108 0 0"/>
      <geometry>
        <box size="0.003 0.008 0.008"/>
      </geometry>
      <material name="tactile"/>
    </visual>
    <collision>
      <origin rpy="0 0 0" xyz="0.0108 0 0"/>
      <geometry>
        <box size="0.003 0.008 0.008"/>
      </geometry>
    </collision>
  </link>
  <joint name="joint_15.0_tip_fsr_5" type="fixed">
    <parent link="link_15.0_tip"/>
    <child link="link_15.0_tip_fsr_5"/>
    <origin rpy="0 0 0" xyz="-0.0213 0 0"/>
  </joint>
  <link name="link_15.0_tip_fsr_8">
    <visual>
      <origin rpy="0 0 0" xyz="0.0108 0 0"/>
      <geometry>
        <box size="0.008 0.003 0.008"/>
      </geometry>
      <material name="tactile"/>
    </visual>
    <collision>
      <origin rpy="0 0 0" xyz="0.0108 0 0"/>
      <geometry>
        <box size="0.008 0.003 0.008"/>
      </geometry>
    </collision>
  </link>
  <joint name="joint_15.0_tip_fsr_8" type="fixed">
    <parent link="link_15.0_tip"/>
    <child link="link_15.0_tip_fsr_8"/>
    <origin rpy="0 0 0" xyz="-0.011 0.0105 0"/>
  </joint>
  <link name="link_15.0_tip_fsr_11">
    <visual>
      <origin rpy="0 0 0" xyz="0.0108 0 0"/>
      <geometry>
        <box size="0.008 0.003 0.008"/>
      </geometry>
      <material name="tactile"/>
    </visual>
    <collision>
      <origin rpy="0 0 0" xyz="0.0108 0 0"/>
      <geometry>
        <box size="0.008 0.003 0.008"/>
      </geometry>
    </collision>
  </link>
  <joint name="joint_15.0_tip_fsr_11" type="fixed">
    <parent link="link_15.0_tip"/>
    <child link="link_15.0_tip_fsr_11"/>
    <origin rpy="0 0 0" xyz="-0.011 -0.0105 0"/>
  </joint> -->
  <link name="link_15.0_tip_fsr_2">
    <visual>
      <!-- The previous layout with the surrounding sensors positioned further from the central one. -->
      <origin rpy="0 0 0" xyz="0.0108 0 0"/>

      <!-- Origin of tactile sensors with respect to the joint frame. This is for the latest version with the surrounding sensors closer to the central one. -->
      <!-- <origin rpy="0 0 0" xyz="0.0105 0 0"/> -->
      <geometry>
        <box size="0.003 0.008 0.008"/>
      </geometry>
      <material name="tactile"/>
    </visual>
    <collision>
      <origin rpy="0 0 0" xyz="0.0108 0 0"/>
      <!-- <origin rpy="0 0 0" xyz="0.0105 0 0"/> -->
      <geometry>
        <box size="0.003 0.008 0.008"/>
      </geometry>
    </collision>
  </link>
  <joint name="joint_15.0_tip_fsr_2" type="fixed">
    <parent link="link_15.0_tip"/>
    <child link="link_15.0_tip_fsr_2"/>
    <!-- <origin rpy="0 0 0" xyz="0.0001 0 0.000"/> -->
    <origin rpy="0 -0.6 0" xyz="0.0 0 0.000"/>
  </joint>
  <link name="link_15.0_tip_fsr_5">
    <visual>
      <origin rpy="0 0 0" xyz="-0.0108 0 0"/>
      <geometry>
        <box size="0.003 0.008 0.008"/>
      </geometry>
      <material name="tactile"/>
    </visual>
    <collision>
      <origin rpy="0 0 0" xyz="-0.0108 0 0"/>
      <geometry>
        <box size="0.003 0.008 0.008"/>
      </geometry>
    </collision>
  </link>
  <joint name="joint_15.0_tip_fsr_5" type="fixed">
    <parent link="link_15.0_tip"/>
    <child link="link_15.0_tip_fsr_5"/>
    <!-- <origin rpy="0 0 0" xyz="-0.0213 0 0"/> -->
    <origin rpy="0 0.6 0" xyz="0.0 0 0"/>
  </joint>
  <link name="link_15.0_tip_fsr_8">
    <visual>
      <!-- <origin rpy="0 0 0" xyz="0.0108 0 0"/> -->
      <origin rpy="0.0 0 0" xyz="0.0 0.0108 0"/>
      <geometry>
        <box size="0.008 0.003 0.008"/>
      </geometry>
      <material name="tactile"/>
    </visual>
    <collision>
      <origin rpy="0.0 0 0" xyz="0.0 0.0108 0"/>
      <geometry>
        <box size="0.008 0.003 0.008"/>
      </geometry>
    </collision>
  </link>
  <joint name="joint_15.0_tip_fsr_8" type="fixed">
    <parent link="link_15.0_tip"/>
    <child link="link_15.0_tip_fsr_8"/>
    <!-- previous joint pos -->
    <!-- <origin rpy="0 0 0" xyz="-0.011 0.0105 0"/> -->
    <!-- new joint pos is the center of the tip -->
    <origin rpy="0.6 0 0" xyz="0.0 0.0 0"/>
  </joint>
  <link name="link_15.0_tip_fsr_11">
    <visual>
      <!-- <origin rpy="0 0 0" xyz="0.0108 0 0"/> -->
      <origin rpy="0 0 0" xyz="0.0 -0.0108 0"/>
      <geometry>
        <box size="0.008 0.003 0.008"/>
      </geometry>
      <material name="tactile"/>
    </visual>
    <collision>
      <!-- <origin rpy="0 0 0" xyz="0.0108 0 0"/> -->
      <origin rpy="0 0 0" xyz="0.0 -0.0108 0"/>
      <geometry>
        <box size="0.008 0.003 0.008"/>
      </geometry>
    </collision>
  </link>
  <joint name="joint_15.0_tip_fsr_11" type="fixed">
    <parent link="link_15.0_tip"/>
    <child link="link_15.0_tip_fsr_11"/>
    <origin rpy="-0.6 0 0" xyz="0.0 0.0 0"/>
  </joint>
  <link name="link_15.0_tip_fsr_13">
    <visual>
      <origin rpy="0 0 0" xyz="0.0108 0 0"/>
      <geometry>
        <box size="0.008 0.008 0.003"/>
      </geometry>
      <material name="tactile"/>
    </visual>
    <collision>
      <origin rpy="0 0 0" xyz="0.0108 0 0"/>
      <geometry>
        <box size="0.008 0.008 0.003"/>
      </geometry>
    </collision>
  </link>
  <joint name="joint_15.0_tip_fsr_13" type="fixed">
    <parent link="link_15.0_tip"/>
    <child link="link_15.0_tip_fsr_13"/>
    <origin rpy="0 0 0" xyz="-0.011 0 0.0105"/>
  </joint>

  <!-- Palm fsr sensor -->
  <link name="link_base_fsr">
    <visual>
      <origin rpy="0 0 0" xyz="0.0108 0 0"/>
      <geometry>
        <box size="0.003 0.0228 0.0168"/>
      </geometry>
      <material name="tactile"/>
    </visual>
    <collision>
      <origin rpy="0 0 0" xyz="0.0108 0 0"/>
      <geometry>
        <box size="0.003 0.0228 0.0168"/>
      </geometry>
    </collision>
  </link>
  <link name="link_0.0_fsr">
    <visual>
      <origin rpy="0 0 0" xyz="0.0108 0 0"/>
      <geometry>
        <box size="0.003 0.0228 0.0168"/>
      </geometry>
      <material name="tactile"/>
    </visual>
    <collision>
      <origin rpy="0 0 0" xyz="0.0108 0 0"/>
      <geometry>
        <box size="0.003 0.0228 0.0168"/>
      </geometry>
    </collision>
  </link>
  <link name="link_4.0_fsr">
    <visual>
      <origin rpy="0 0 0" xyz="0.0108 0 0"/>
      <geometry>
        <box size="0.003 0.0228 0.0168"/>
      </geometry>
      <material name="tactile"/>
    </visual>
    <collision>
      <origin rpy="0 0 0" xyz="0.0108 0 0"/>
      <geometry>
        <box size="0.003 0.0228 0.0168"/>
      </geometry>
    </collision>
  </link>
  <link name="link_8.0_fsr">
    <visual>
      <origin rpy="0 0 0" xyz="0.0108 0 0"/>
      <geometry>
        <box size="0.003 0.0228 0.0168"/>
      </geometry>
      <material name="tactile"/>
    </visual>
    <collision>
      <origin rpy="0 0 0" xyz="0.0108 0 0"/>
      <geometry>
        <box size="0.003 0.0228 0.0168"/>
      </geometry>
    </collision>
  </link>
  <joint name="joint_base_fsr" type="fixed">
    <parent link="base_link"/>
    <child link="link_base_fsr"/>
    <origin rpy="-0.09 0 0" xyz="0.002 -0.035 -0.065"/>
  </joint>
  <joint name="joint_0.0_fsr" type="fixed">
    <parent link="base_link"/>
    <child link="link_8.0_fsr"/>
    <origin rpy="-0.09 0 0" xyz="0.001 -0.041 -0.015"/>
  </joint>
  <joint name="joint_4.0_fsr" type="fixed">
    <parent link="base_link"/>
    <child link="link_4.0_fsr"/>
    <origin rpy="0 0 0" xyz="0.001 0 -0.013"/>
  </joint>
  <joint name="joint_8.0_fsr" type="fixed">
    <parent link="base_link"/>
    <child link="link_0.0_fsr"/>
    <origin rpy="0.09 0 0" xyz="0.001 0.041 -0.015"/>
  </joint>
</robot>
